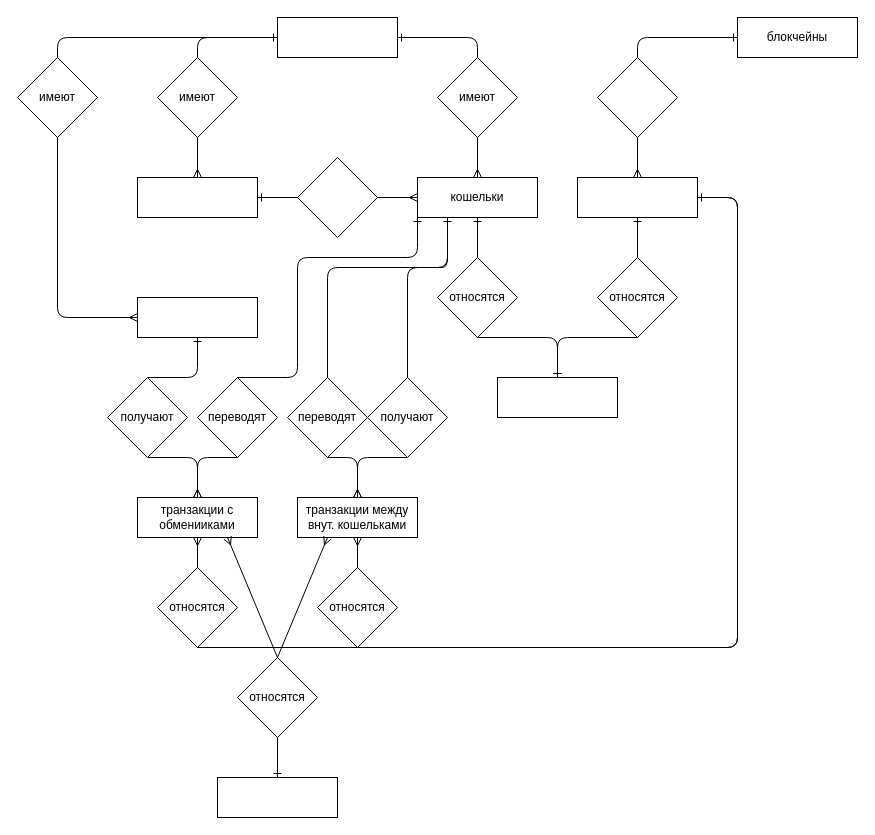
Some shapes in this 875 by 835 pixel diagram are drawn without their labels. Each missing label, with the box of its shape:
балансы: (496, 376, 618, 418)
обменники: (136, 296, 258, 338)
пользователи: (136, 176, 258, 218)
привязаны: (296, 156, 378, 238)
содержат: (596, 56, 678, 138)
статусы: (276, 16, 398, 58)
статусы транзакций: (216, 776, 338, 818)
токены: (576, 176, 698, 218)
